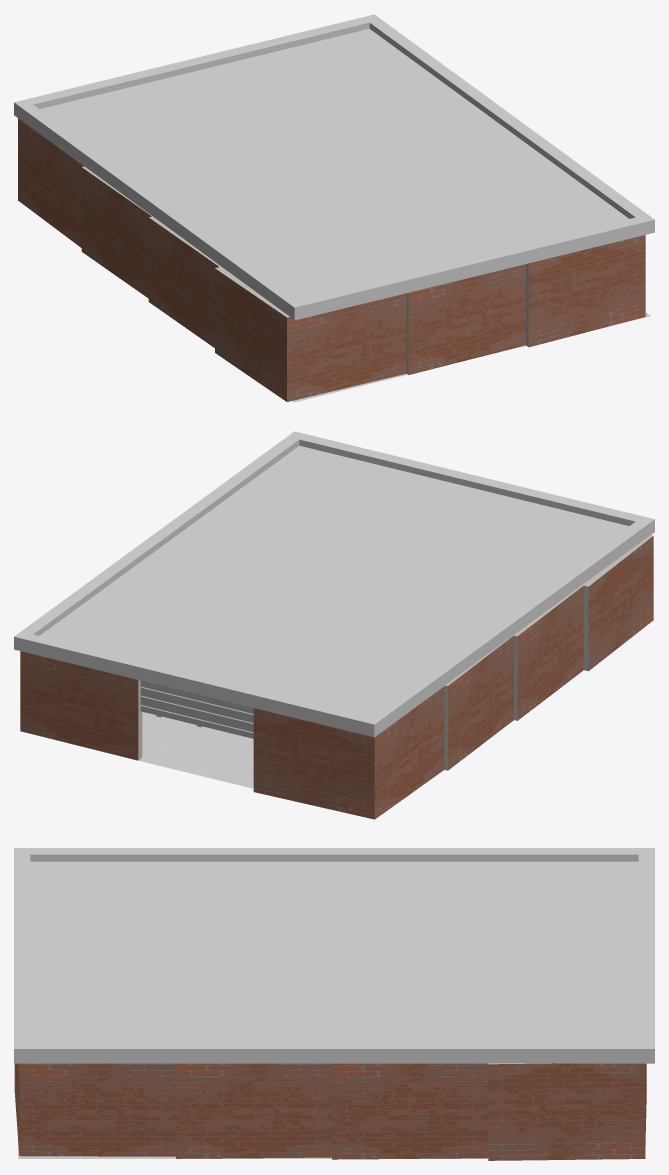
File: Storage_Warehouse.FBX
The picture shows the model from 3 angles, top to bottom: view 1: azimuth 30°, elevation 25°; view 2: azimuth 150°, elevation 25°; view 3: azimuth 270°, elevation 25°; orthographic projection. The views are drawn at different scales.
Parts seen in each view (by area): view 1: S_Roof, S_Corner003, S_Corner002, Mod_Wall_Pillar007, Mod_Wall_Pillar004, Mod_Wall_Pillar008, S_Corner; view 2: S_Roof, S_Corner, S_Corner001, S_Corner003, Mod_Wall_Pillar008, Mod_Wall_Pillar004, Mod_Floor019, S_door, Mod_Floor023; view 3: S_Roof, S_Corner001, Mod_Wall_Pillar005, S_Corner002, Mod_Wall_Pillar006, Mod_Floor020.
Boxes of the visible parts, x1=… form: S_Roof: x1=14, y1=14, x2=654, y2=320; S_Corner003: x1=215, y1=266, x2=406, y2=401; S_Corner002: x1=526, y1=235, x2=645, y2=347; Mod_Wall_Pillar007: x1=406, y1=264, x2=525, y2=374; Mod_Wall_Pillar004: x1=81, y1=166, x2=152, y2=298; Mod_Wall_Pillar008: x1=148, y1=216, x2=220, y2=347; S_Corner: x1=18, y1=118, x2=83, y2=247; S_Roof: x1=14, y1=431, x2=654, y2=737; S_Corner: x1=253, y1=687, x2=444, y2=819; S_Corner001: x1=20, y1=651, x2=142, y2=760; S_Corner003: x1=582, y1=535, x2=653, y2=671; Mod_Wall_Pillar008: x1=513, y1=585, x2=583, y2=720; Mod_Wall_Pillar004: x1=444, y1=635, x2=513, y2=770; Mod_Floor019: x1=139, y1=723, x2=253, y2=788; S_door: x1=140, y1=680, x2=253, y2=738; Mod_Floor023: x1=22, y1=712, x2=188, y2=757; S_Roof: x1=14, y1=848, x2=654, y2=1063; S_Corner001: x1=488, y1=1063, x2=646, y2=1160; Mod_Wall_Pillar005: x1=332, y1=1063, x2=488, y2=1159; S_Corner002: x1=14, y1=1063, x2=175, y2=1156; Mod_Wall_Pillar006: x1=176, y1=1063, x2=331, y2=1158; Mod_Floor020: x1=18, y1=1141, x2=174, y2=1158.
Size of the model in its own units: 305 by 76.9 by 402.
